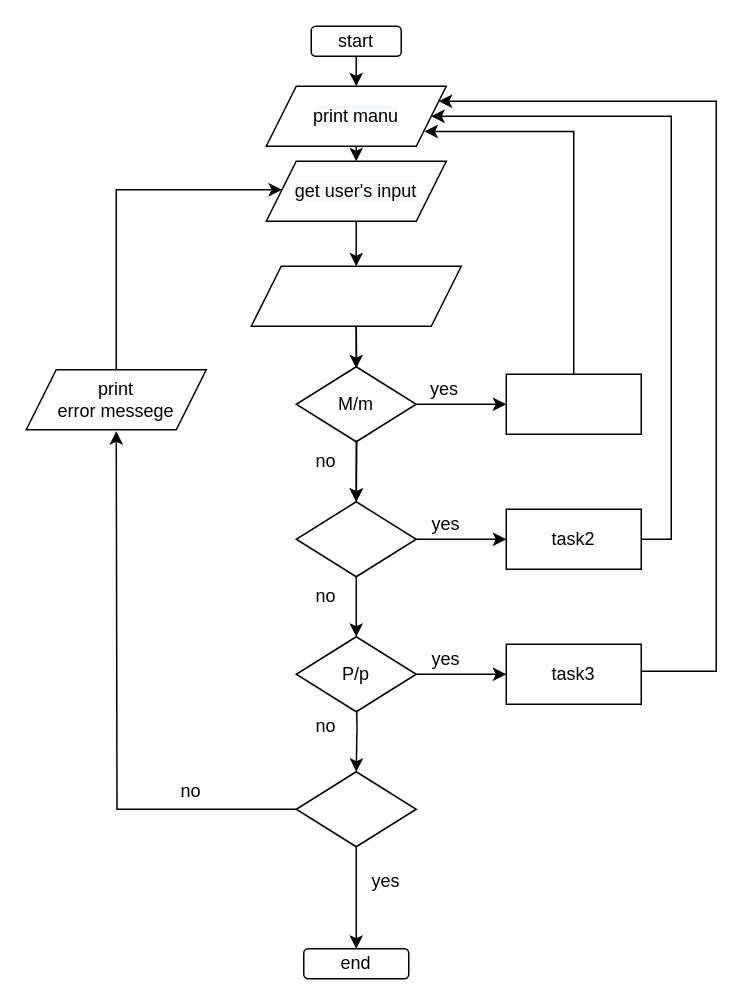
Image size: 755x1005. Some labels were removed from this diagram. Each missing label, with the centre of its shape:
"print users selection" belongs at point (355, 295).
"Q/q" belongs at point (355, 808).
"S/s" belongs at point (355, 538).
"task1" belongs at point (573, 403).
